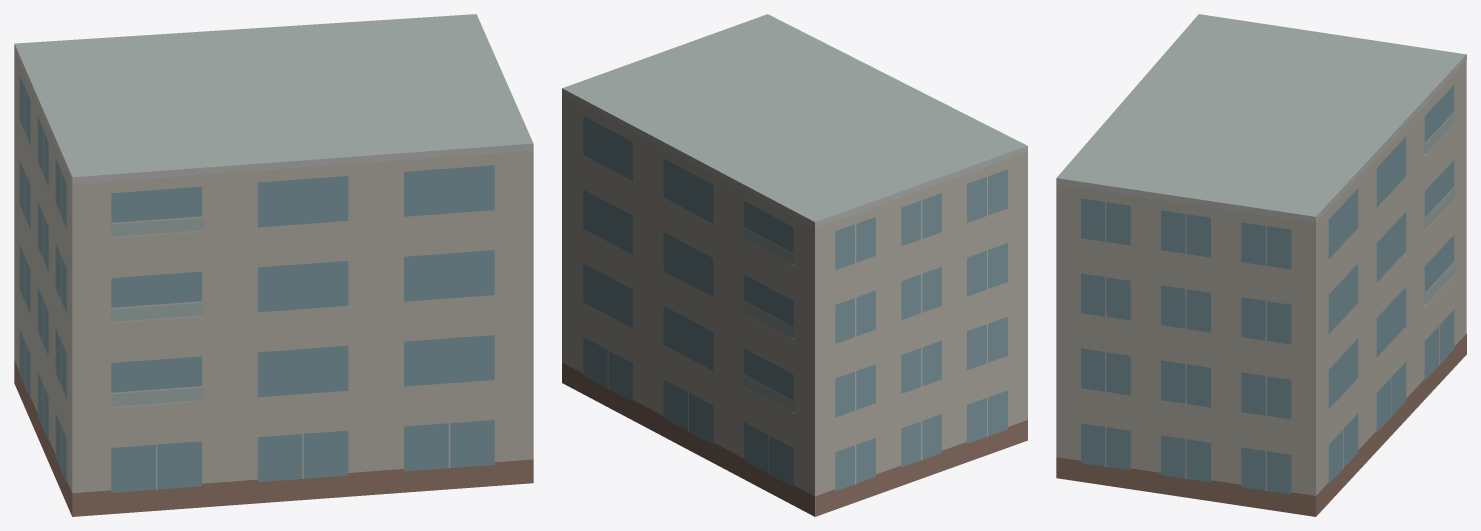
File: survey-upis-32852677.glb
3 views of the same model, side by side, from view 1: azimuth 30°, elevation 25°; view 2: azimuth 150°, elevation 25°; view 3: azimuth 270°, elevation 25° (orthographic). The views are drawn at different scales.
Visible parts, largest first — view 1: survey-upis-32852677.tmp; view 2: survey-upis-32852677.tmp; view 3: survey-upis-32852677.tmp.
Boxes of the visible parts, left/top/right/bottom form: survey-upis-32852677.tmp: left=14, top=14, right=533, bottom=516; survey-upis-32852677.tmp: left=562, top=14, right=1027, bottom=516; survey-upis-32852677.tmp: left=1056, top=14, right=1466, bottom=516.
Bounding box in the file's own units: 16.97 × 11.7 × 14.51.
